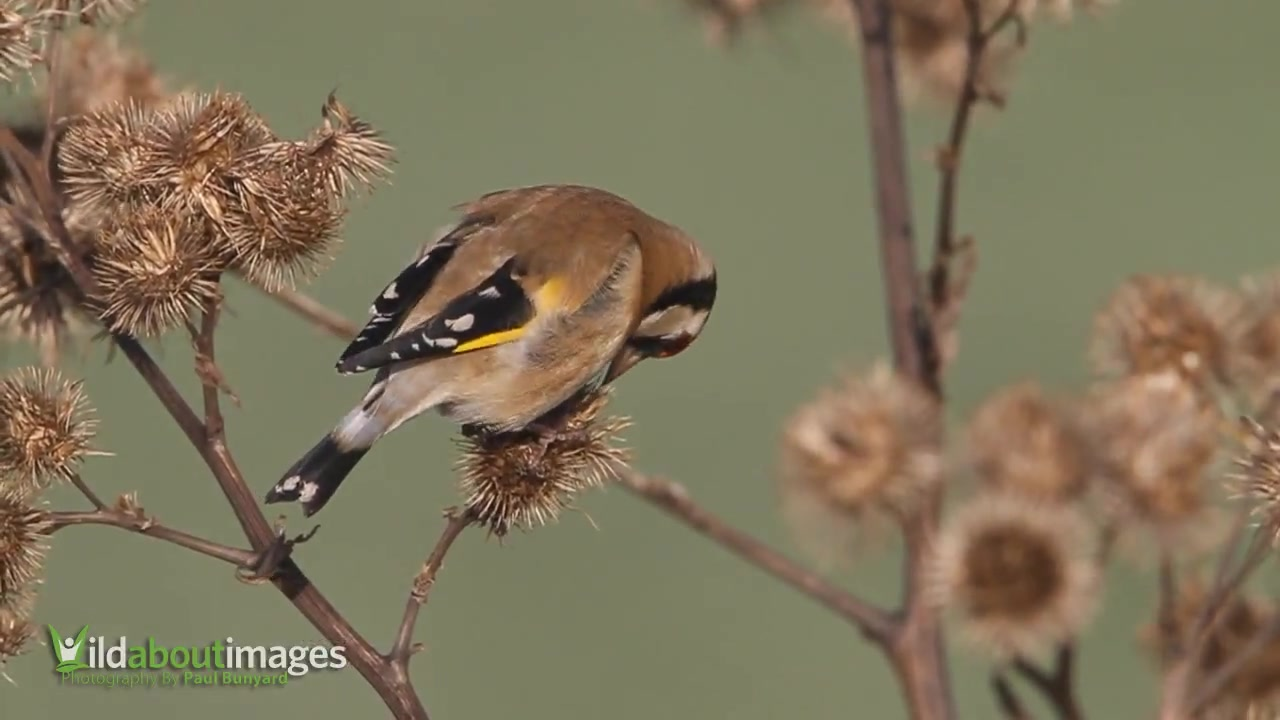bird: (264, 183, 721, 521)
